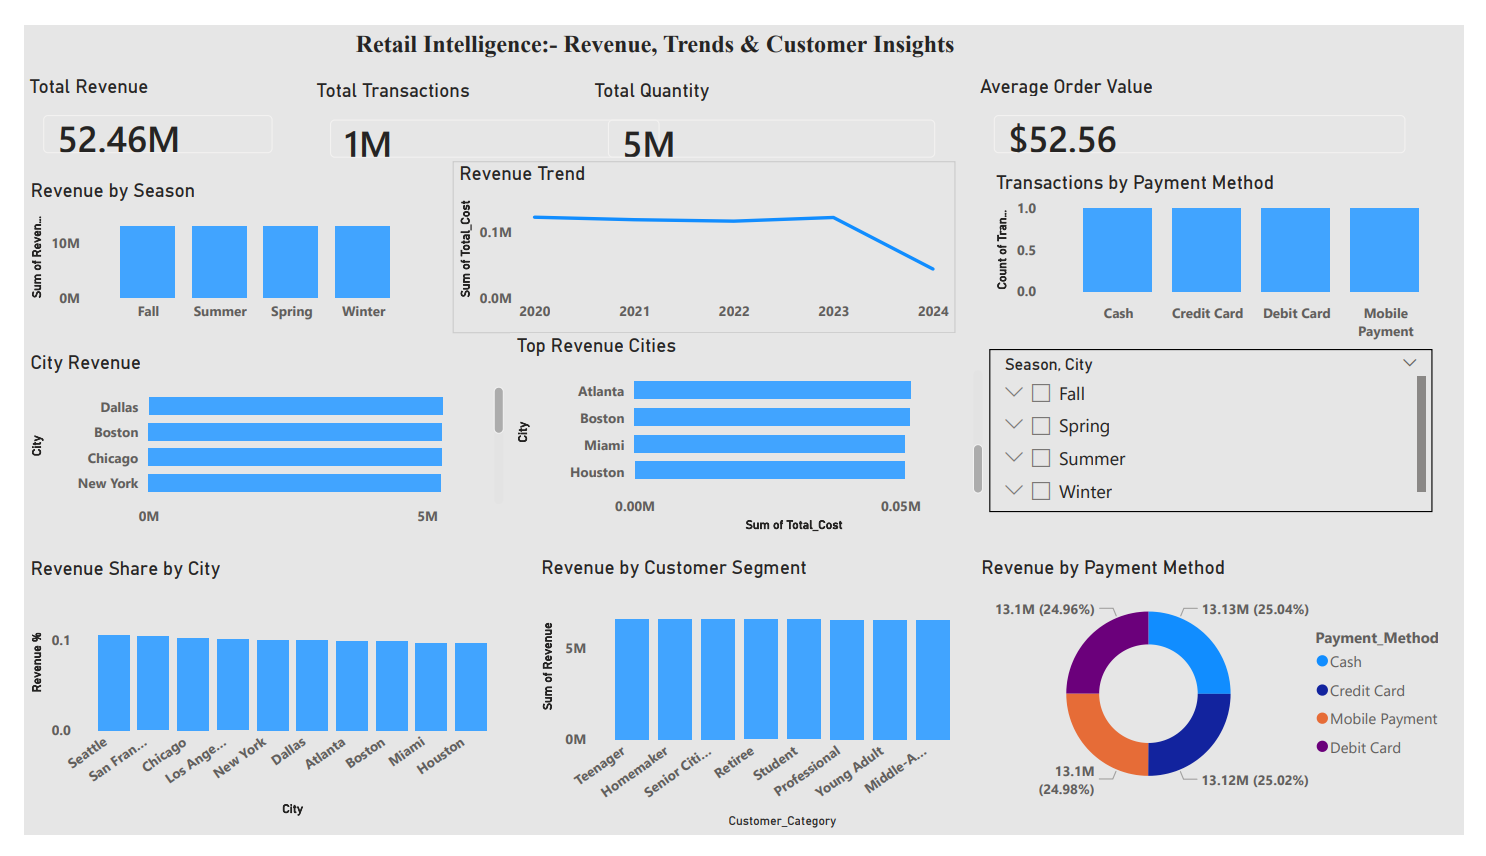

The page's visual inventory and layout, read from the dashboard file:
{"tool":"powerbi","page":{"name":"Page 1","canvas":[1280,720],"ordinal":0},"visuals":[{"type":"cardVisual","title":"Total Revenue","fields":{"Data":["Sum(gold_top_cities.Total_Revenue)"]},"box":[0,44,238.9,87.9],"z":0},{"type":"cardVisual","title":"Total Transactions","fields":{"Data":["Sum(gold_top_cities.Total_Transactions)"]},"box":[254.7,48.5,328,87.9],"z":1000},{"type":"cardVisual","title":"Total Quantity","fields":{"Data":["Sum(gold_top_cities.Total_Quantity)"]},"box":[501.6,48.5,325.7,87.9],"z":2000},{"type":"barChart","title":"City Revenue","fields":{"Category":["gold_top_cities.City"],"Y":["Sum(gold_top_cities.Total_Revenue)"]},"box":[0,289.4,431.9,167],"z":3000},{"type":"clusteredColumnChart","title":"Revenue by Season","fields":{"Category":["gold_seasonal_analysis.Season"],"Y":["Sum(gold_seasonal_analysis.Revenue)"]},"box":[0,135.9,358.9,138.2],"z":4000},{"type":"columnChart","title":"Revenue by Customer Segment","fields":{"Category":["gold_customer_segment (2).Customer_Category"],"Y":["Sum(gold_customer_segment (2).Revenue)"]},"box":[454.2,471.1,391.1,249.1],"z":5000},{"type":"donutChart","title":"Revenue by Payment Method","fields":{"Category":["gold_payment_analysis.Payment_Method"],"Y":["Sum(gold_payment_analysis.Revenue)"]},"box":[845.4,470.9,434.9,227.9],"z":6000},{"type":"lineChart","title":"Revenue Trend","fields":{"Category":["silver_sales.Order_Date.Variation.Date Hierarchy.Year","silver_sales.Order_Date.Variation.Date Hierarchy.Quarter","silver_sales.Order_Date.Variation.Date Hierarchy.Month","silver_sales.Order_Date.Variation.Date Hierarchy.Day"],"Y":["Sum(silver_sales.Total_Cost)"]},"box":[380.7,121.3,447.5,152.5],"z":7000},{"type":"cardVisual","title":"Average Order Value","fields":{"Data":["silver_sales.Average_Order_Value"]},"box":[845.3,44,400.1,87.9],"z":8000},{"type":"barChart","title":"Top Revenue Cities","fields":{"Category":["silver_sales.City"],"Y":["Sum(silver_sales.Total_Cost)"]},"box":[431.9,273.8,426.3,182.6],"z":9000},{"type":"columnChart","title":"Revenue Share by City","fields":{"Category":["silver_sales.City"],"Y":["silver_sales.Revenue %"]},"box":[0,471.6,432.1,237],"z":10000},{"type":"columnChart","title":"Transactions by Payment Method","fields":{"Category":["gold_payment_analysis.Payment_Method"],"Y":["CountNonNull(gold_payment_analysis.Transactions)"]},"box":[858.4,128.9,421.6,160.3],"z":11000},{"type":"textbox","box":[232.2,0,658.2,48.5],"z":12000},{"type":"slicer","fields":{"Values":["silver_sales.Season","Silver_Layer_Retail.City"]},"box":[858.3,288.3,394.1,144.7],"z":13000}]}

Visuals, with their boxes in screenshot pixels (x1, y1, x2, y2), scaled from the page's 1280x720 canvas onto the 1486x856 screenshot:
"Total Revenue" cardVisual: 0 52 277 157
"Total Transactions" cardVisual: 296 58 676 162
"Total Quantity" cardVisual: 582 58 960 162
"City Revenue" barChart: 0 344 501 543
"Revenue by Season" clusteredColumnChart: 0 162 417 326
"Revenue by Customer Segment" columnChart: 527 560 981 855
"Revenue by Payment Method" donutChart: 981 560 1485 831
"Revenue Trend" lineChart: 442 144 961 326
"Average Order Value" cardVisual: 981 52 1446 157
"Top Revenue Cities" barChart: 501 326 996 543
"Revenue Share by City" columnChart: 0 561 502 842
"Transactions by Payment Method" columnChart: 997 153 1485 344
textbox: 270 0 1034 58
slicer - silver_sales.Season x Silver_Layer_Retail.City: 996 343 1454 515
